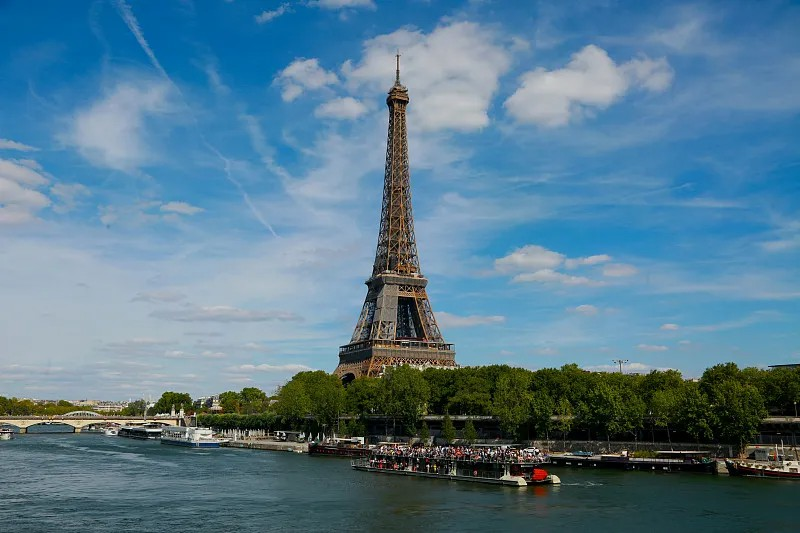Eiffel: (331, 49, 459, 385)
